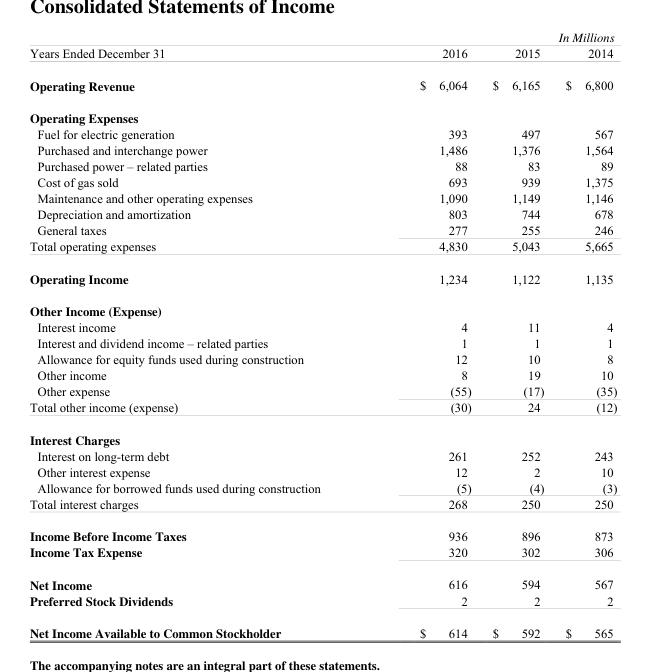table: (28, 29, 616, 641)
table column: (28, 29, 369, 641), (369, 29, 481, 641), (481, 29, 550, 641), (550, 29, 616, 641)
table column header: (28, 29, 616, 68)
table projected row header: (28, 422, 616, 448), (28, 101, 616, 126), (28, 294, 616, 319)
table row: (28, 29, 616, 68), (28, 68, 616, 101), (28, 261, 616, 294), (28, 422, 616, 448), (28, 101, 616, 126), (28, 294, 616, 319), (28, 518, 616, 543), (28, 543, 616, 568), (28, 616, 616, 641), (28, 568, 616, 592), (28, 592, 616, 616), (28, 238, 616, 261), (28, 399, 616, 422), (28, 495, 616, 518), (28, 221, 616, 238), (28, 382, 616, 399), (28, 141, 616, 157), (28, 157, 616, 173), (28, 173, 616, 189), (28, 189, 616, 205), (28, 205, 616, 221), (28, 334, 616, 350), (28, 350, 616, 366), (28, 366, 616, 382), (28, 463, 616, 479), (28, 479, 616, 495), (28, 126, 616, 141), (28, 319, 616, 334), (28, 448, 616, 463)
